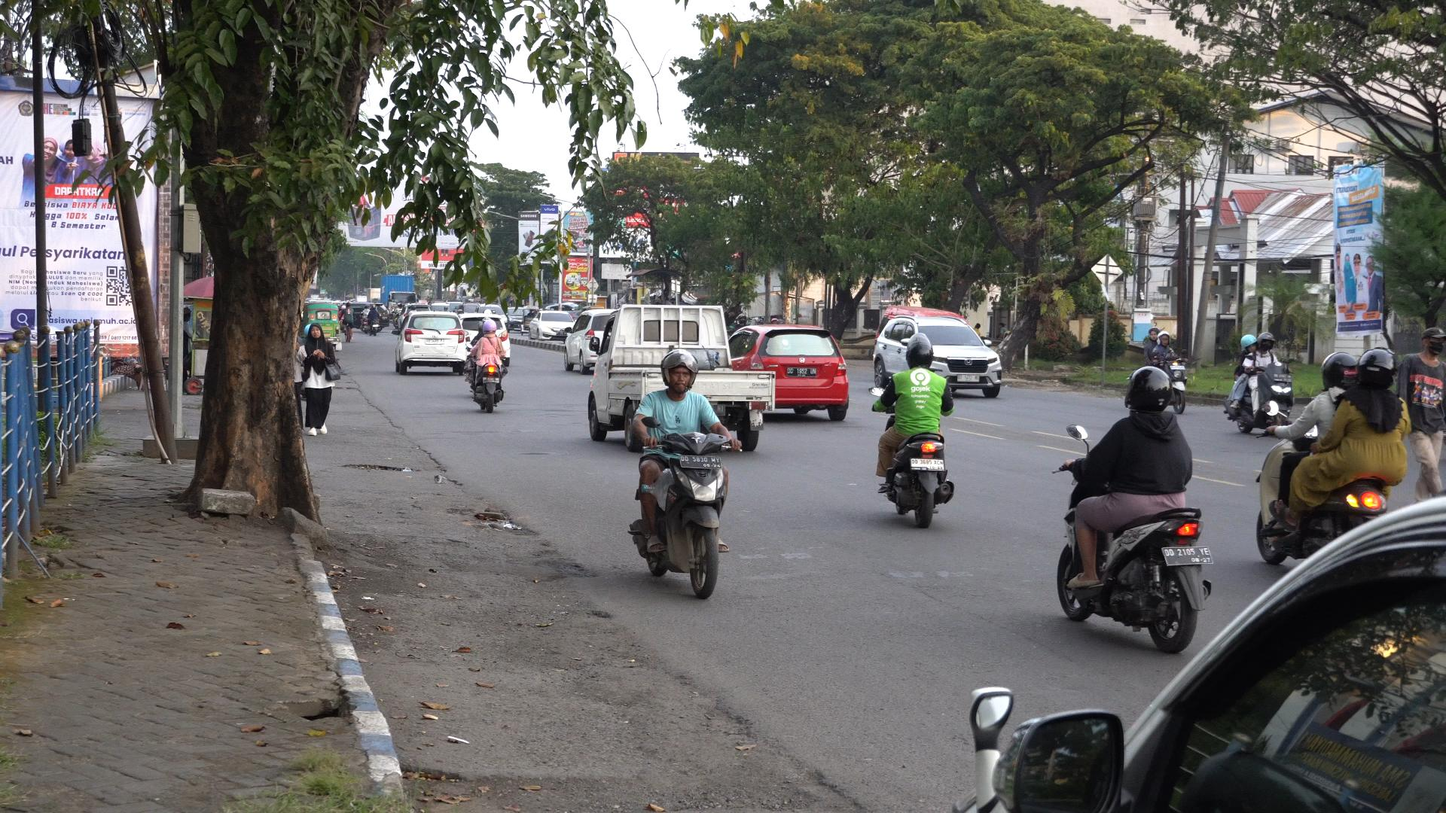number-plate: (680, 454, 722, 471)
